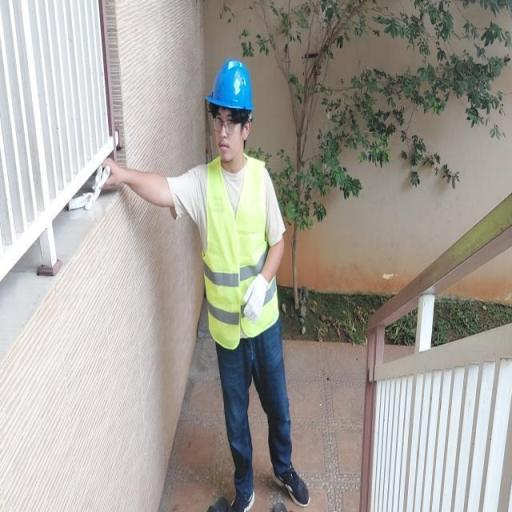Person: (114, 28, 351, 512)
gloves: (240, 272, 272, 326)
helmet: (200, 50, 264, 116)
vest: (189, 158, 287, 344)
